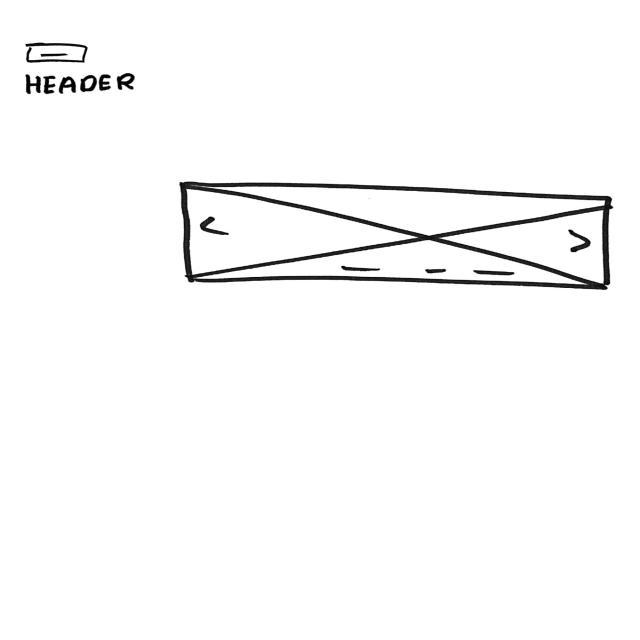icon-button: (25, 43, 89, 66)
image: (180, 181, 617, 292)
label: (24, 74, 141, 97)
